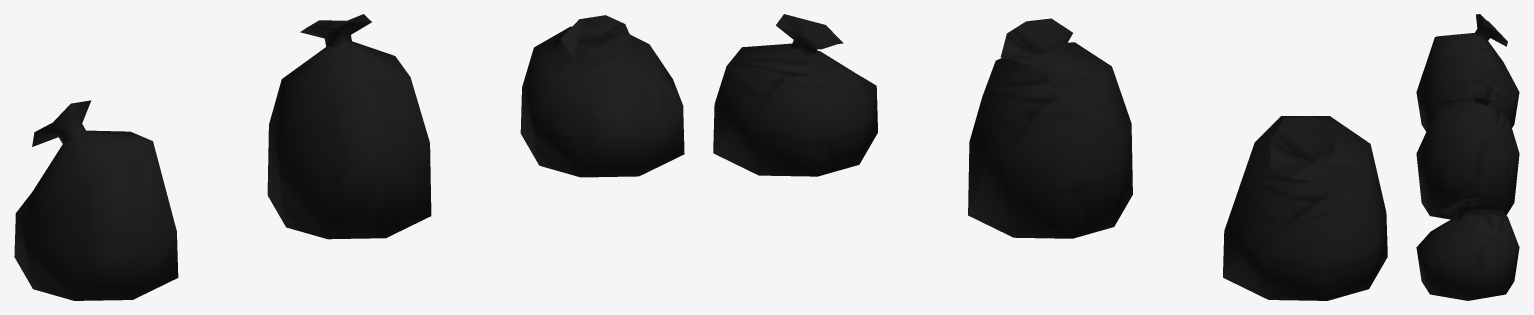
The model's file is TrashBag.glb.
The picture shows the model from 3 angles, left to right: view 1: azimuth 30°, elevation 25°; view 2: azimuth 150°, elevation 25°; view 3: azimuth 270°, elevation 25°; orthographic projection. The views are drawn at different scales.
Visible parts, largest first — view 1: Cube, Cube.001, Cube.002; view 2: Cube, Cube.001, Cube.002; view 3: Cube, Cube.002, Cube.001.
Boxes of the visible parts, x1=… form: Cube: x1=267, y1=14, x2=431, y2=239; Cube.001: x1=14, y1=100, x2=178, y2=300; Cube.002: x1=520, y1=15, x2=684, y2=177; Cube: x1=968, y1=18, x2=1132, y2=238; Cube.001: x1=1223, y1=116, x2=1387, y2=300; Cube.002: x1=713, y1=14, x2=877, y2=176; Cube: x1=1416, y1=79, x2=1519, y2=219; Cube.002: x1=1416, y1=197, x2=1519, y2=300; Cube.001: x1=1416, y1=14, x2=1519, y2=131.
Bounding box in the file's own units: 5.11 × 1.46 × 1.11.
1 material, 1 textured.
